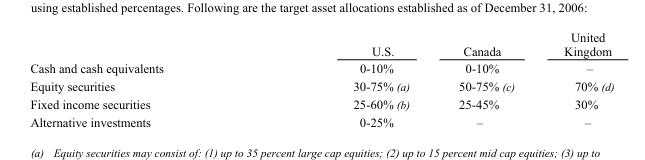table: (29, 29, 613, 129)
table column: (29, 29, 257, 129), (257, 29, 433, 129), (433, 29, 538, 129), (538, 29, 613, 129)
table column header: (29, 29, 613, 59)
table row: (29, 29, 613, 59), (29, 94, 613, 113), (29, 59, 613, 77), (29, 77, 613, 94), (29, 113, 613, 129)
